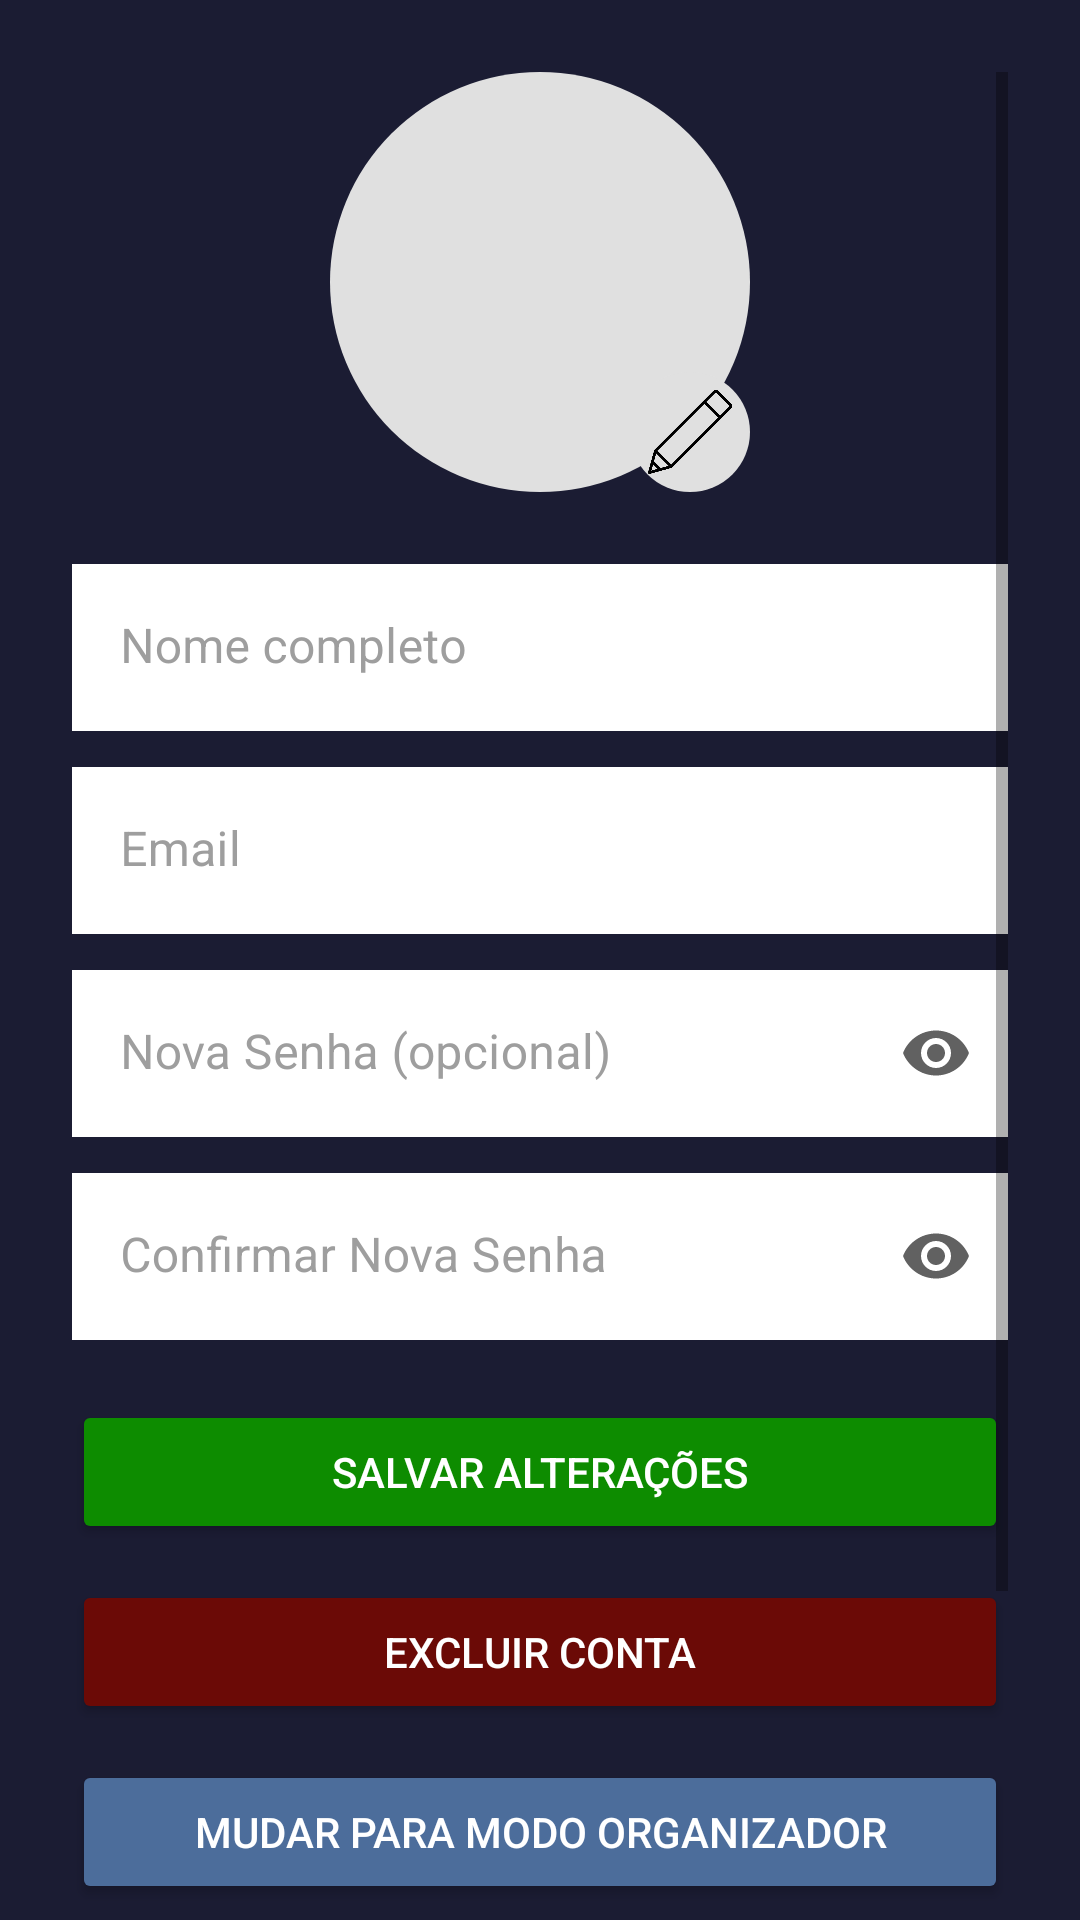

Screen size 1080 x 1920. Icon name, then its center in pixels as (x=x, y=y):
Editar Foto: (x=690, y=432)
